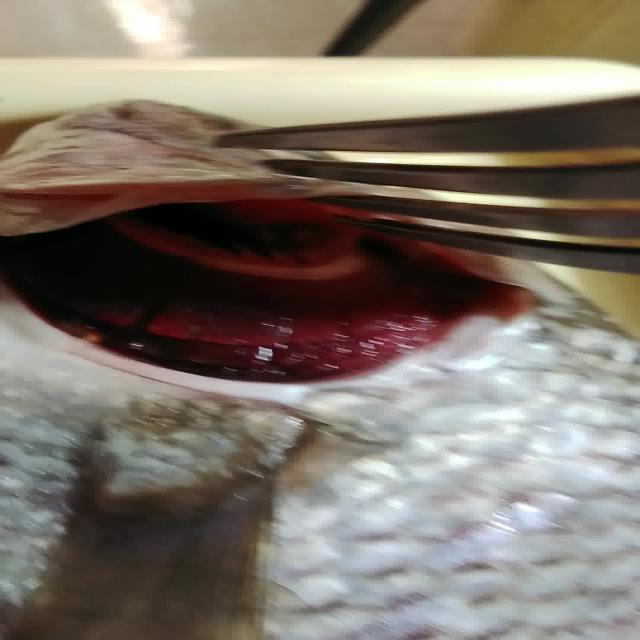Fresh: (39, 198, 524, 418)
